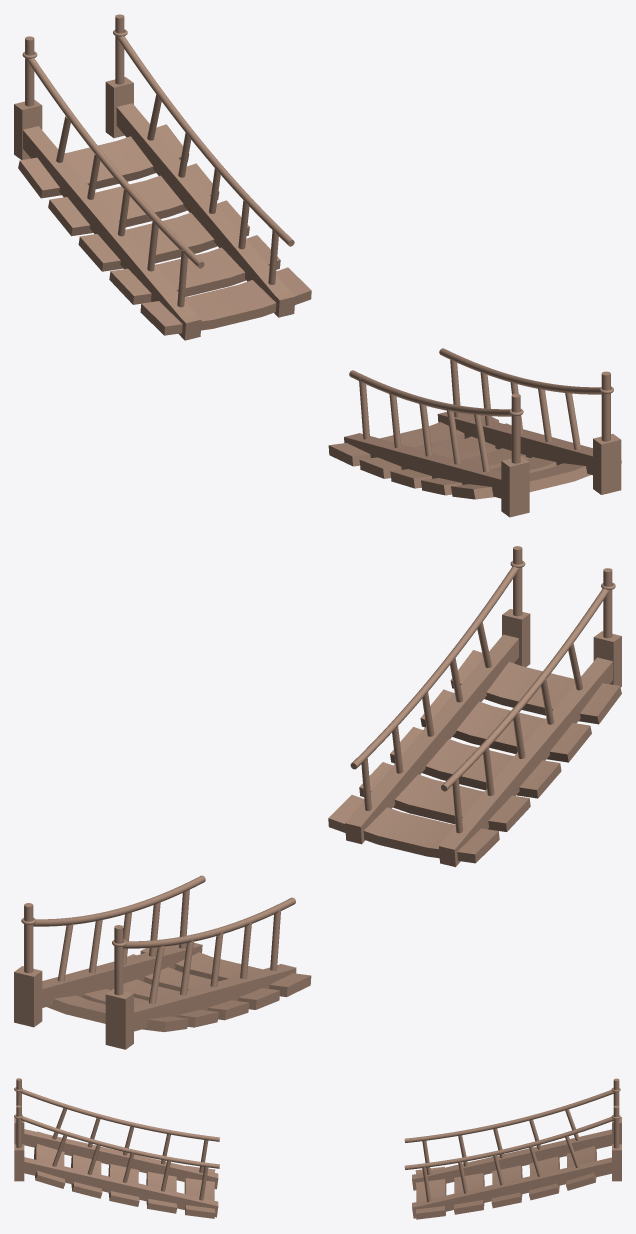
File: PonteSeparada.fbx
The picture shows the model from 3 angles, top to bottom: view 1: azimuth 30°, elevation 25°; view 2: azimuth 150°, elevation 25°; view 3: azimuth 270°, elevation 25°; orthographic projection. The views are drawn at different scales.
Parts seen in each view (by area): view 1: polySurface21, polySurface43; view 2: polySurface43, polySurface21; view 3: polySurface21, polySurface43.
Boxes of the visible parts, x1,y1,x2,y2 form: polySurface21: (14, 14, 311, 340); polySurface43: (328, 348, 621, 517); polySurface43: (328, 546, 621, 867); polySurface21: (14, 875, 311, 1049); polySurface21: (404, 1078, 621, 1219); polySurface43: (14, 1078, 219, 1218).
Bounding box in the file's own units: 7.35 × 8.54 × 43.01.
